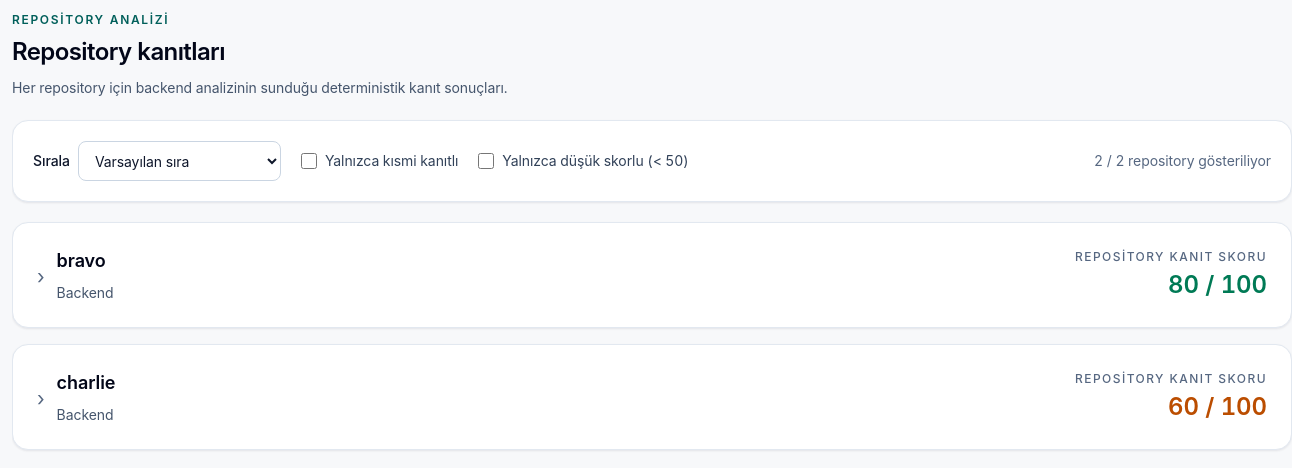
Test: RepositoryAnalysisSection sıralama ve filtreleme › filtre sonuç vermediğinde boş durum mesajı gösterir
Click the checkbox labelled "Yalnızca düşük skorlu (< 50)".
click(486, 161)  # box [478, 153, 494, 169]
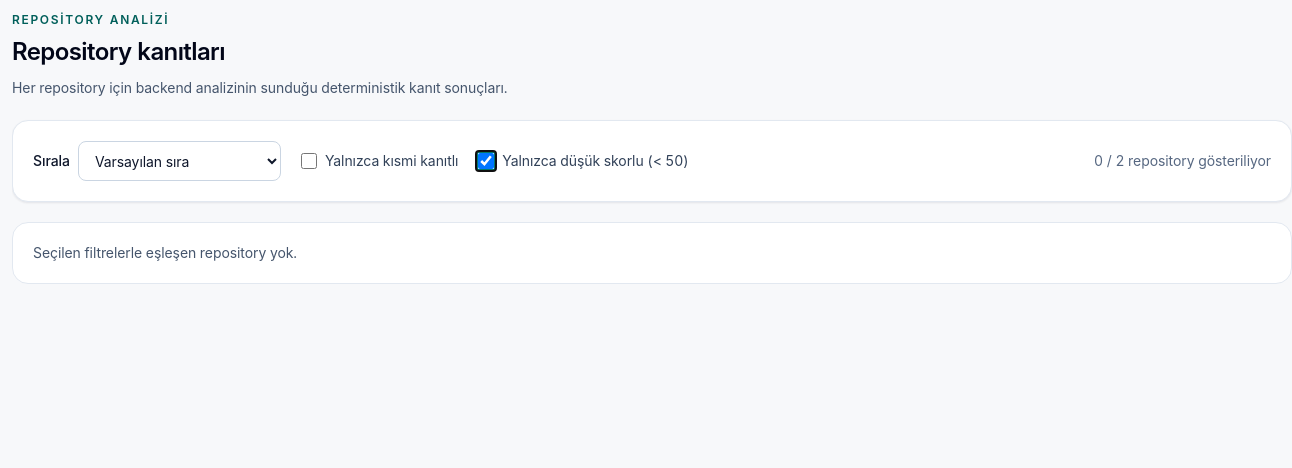
expect the text "Seçilen filtrelerle eşleşen repository yok." is shown: met, box [12, 222, 1291, 284]
